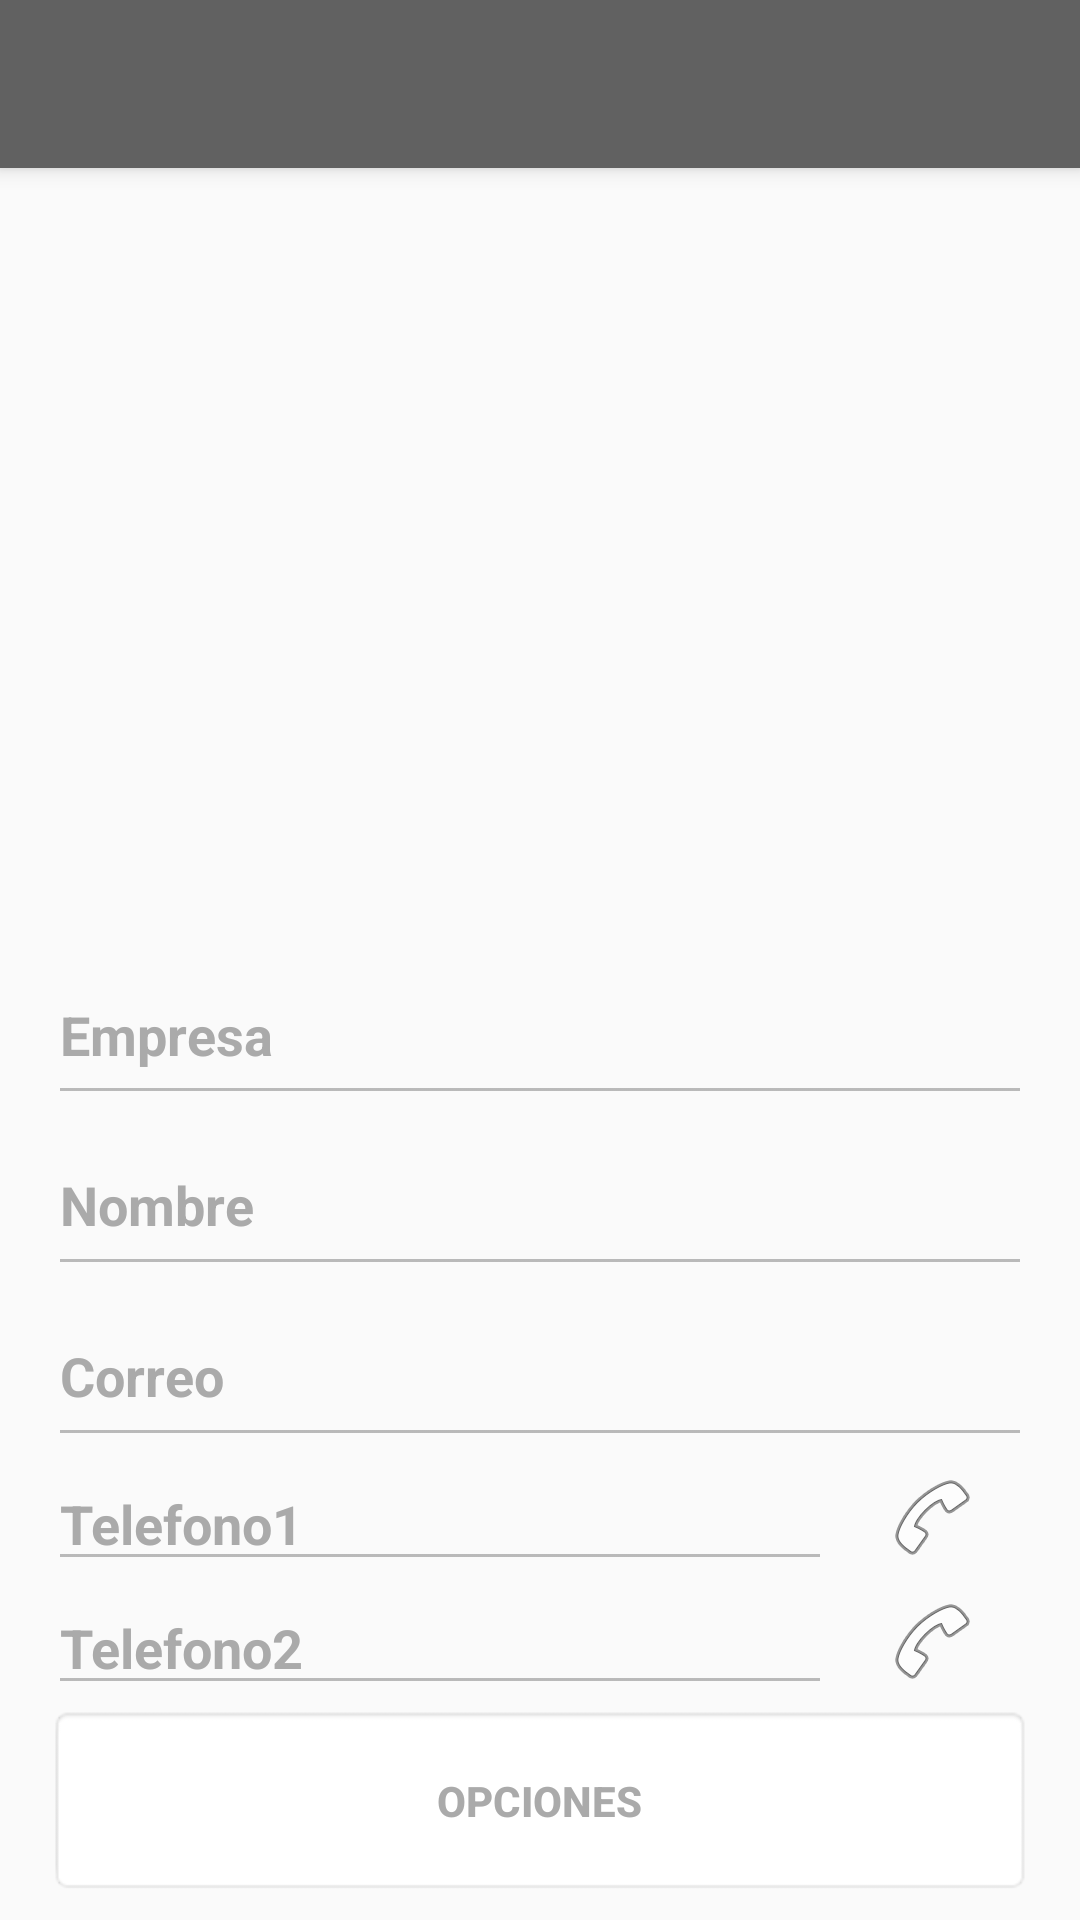

Point at icon controls on the screen. Image size 1080w x 1920h, points as point (x, y).
call: point (932, 1517), point (932, 1641)
